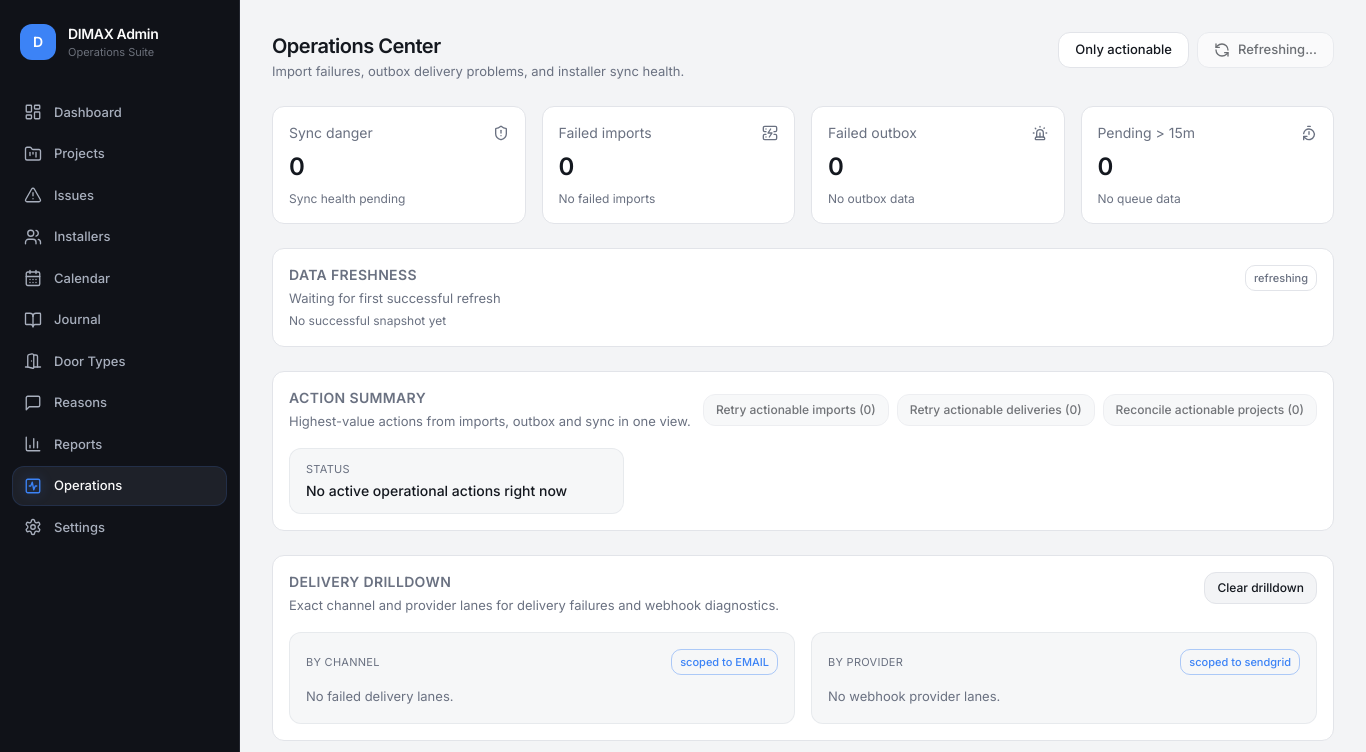
it: OperationsPage › reads and syncs delivery drilldown filters with url state
The width and height of the screenshot is (1366, 752).
Expected: the heading "Operations Center" is shown, [272, 34, 441, 58]
Expected: the text "scoped to EMAIL" is shown, [671, 648, 778, 675]
Click the button "Clear drilldown".
click(1261, 588)  # box [1204, 572, 1317, 604]
(page scrolled)
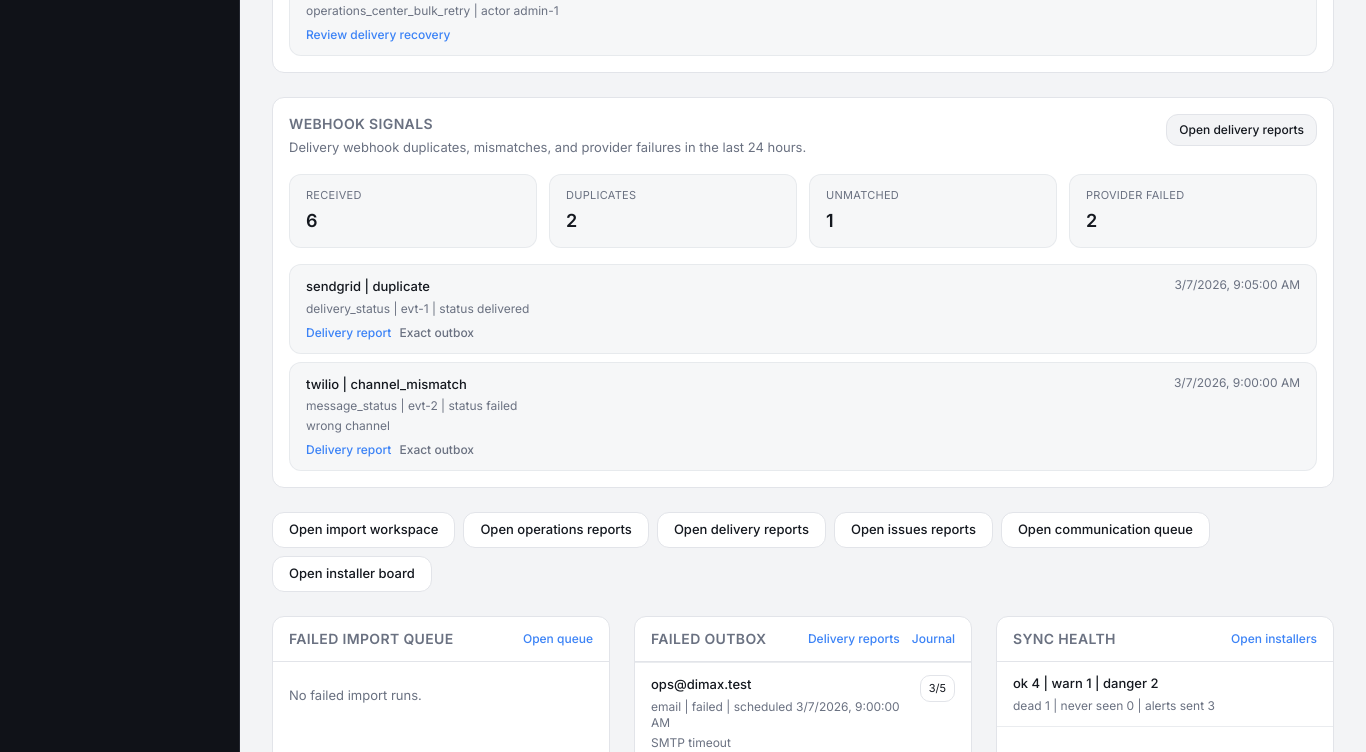
Expected: the text "twilio | channel_mismatch" is shown, [306, 376, 467, 392]
